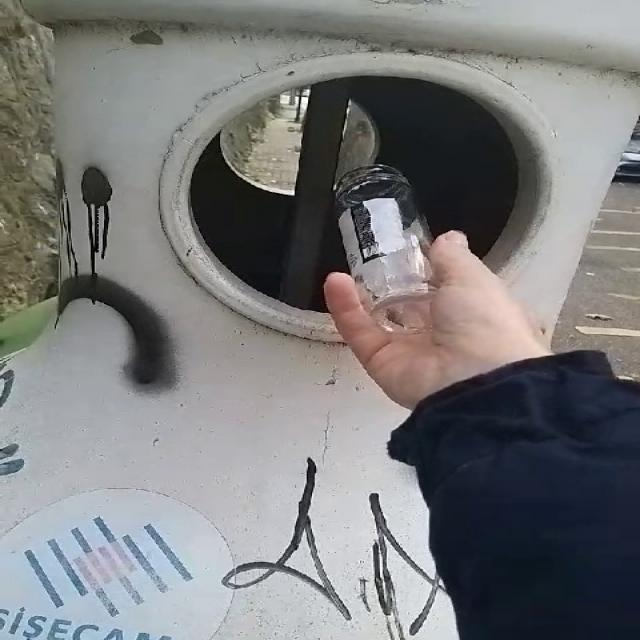glass: (335, 164, 432, 334)
